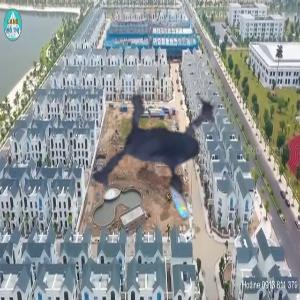drone: (55, 67, 277, 289)
